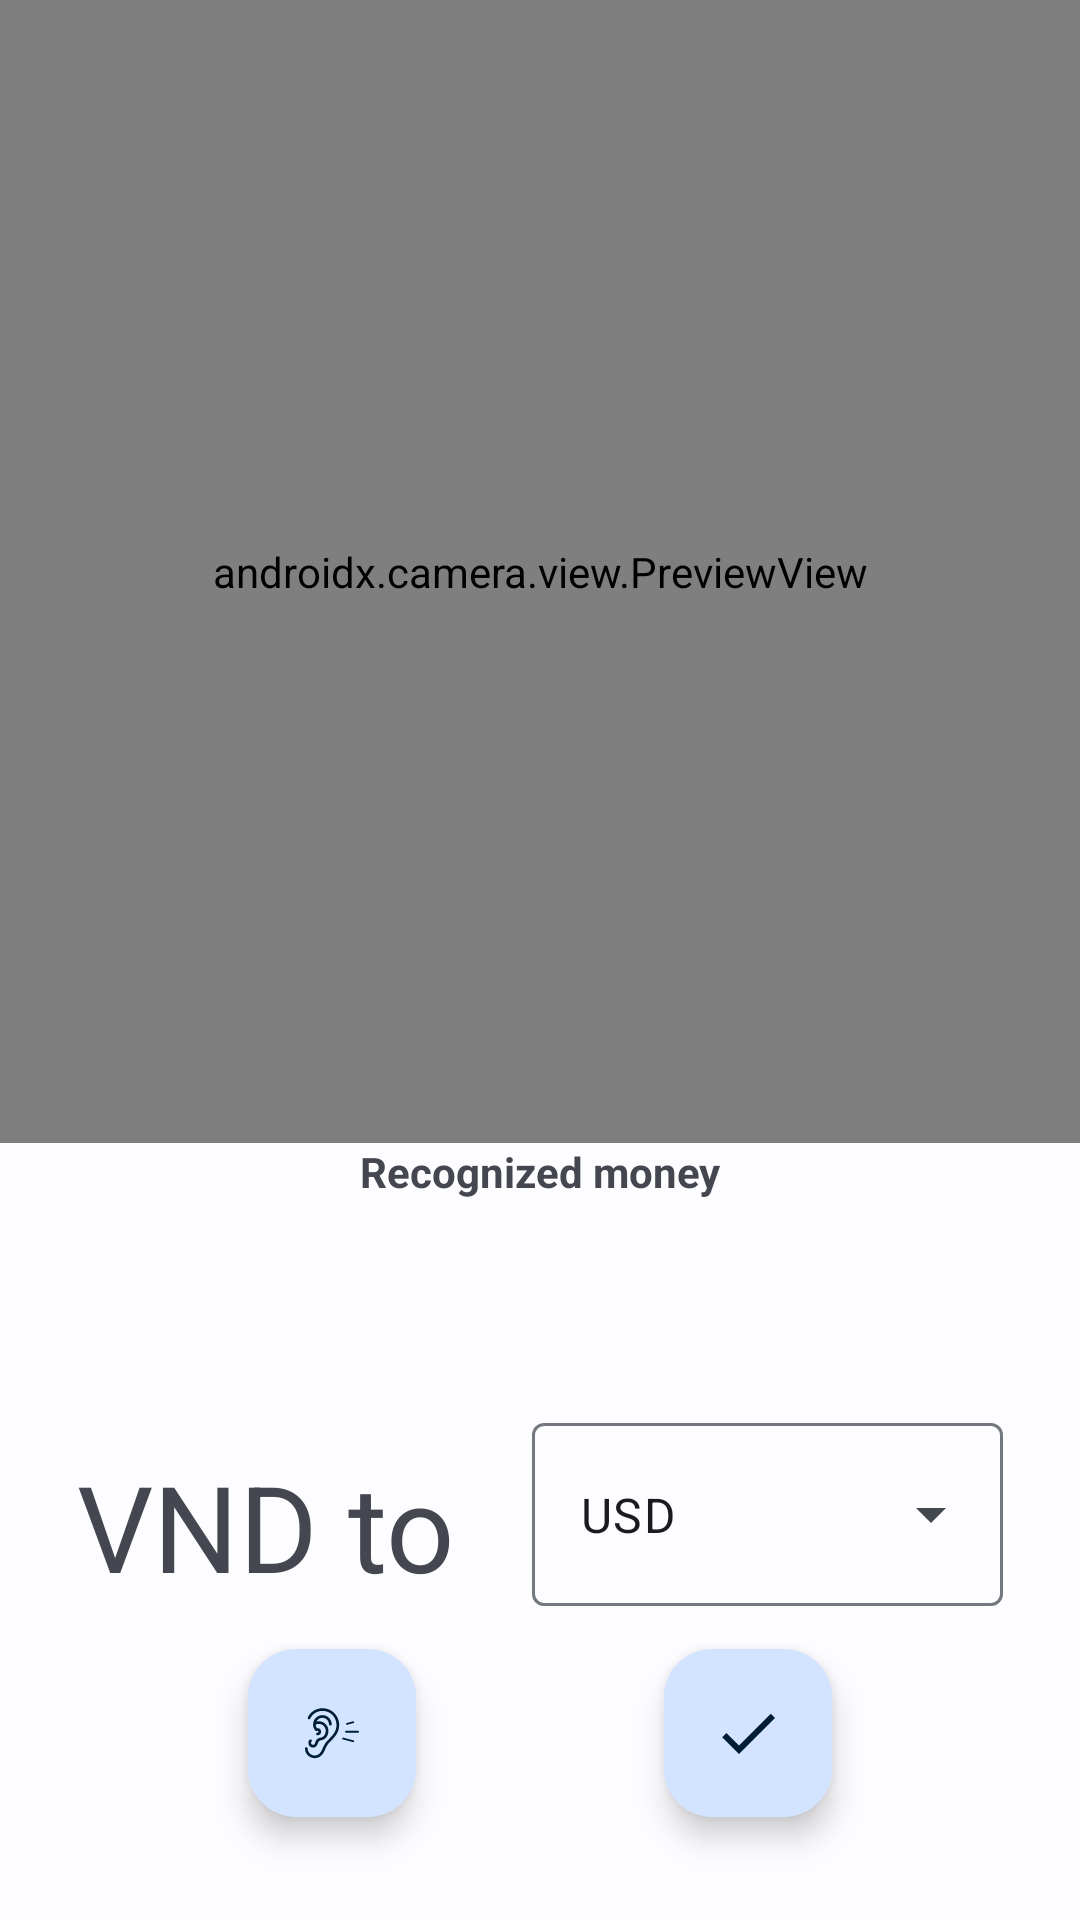

Where icons sit on this 1080px x 1920px app screen, as (x1, y1, x2, y2):
Finish recognizing and calculate the sum of money: (664, 1649, 832, 1817)
Listen again: (248, 1649, 416, 1817)
